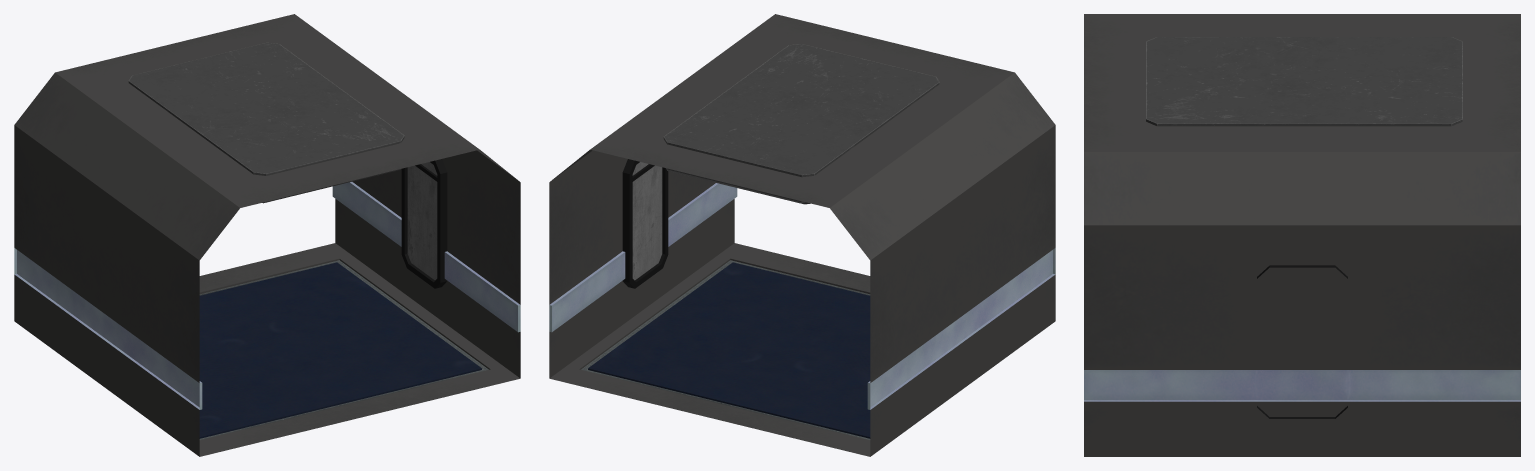
File: Elevator.fbx
The picture shows the model from 3 angles, left to right: view 1: azimuth 30°, elevation 25°; view 2: azimuth 150°, elevation 25°; view 3: azimuth 270°, elevation 25°; orthographic projection. The views are drawn at different scales.
Visible parts, largest first — view 1: Elevator, Elevator_Light; view 2: Elevator, Elevator_Light; view 3: Elevator, Elevator_Light.
Boxes of the visible parts, x1,y1,x2,y2 form: Elevator: (14,14,520,456); Elevator_Light: (128,42,404,203); Elevator: (549,14,1055,456); Elevator_Light: (663,44,939,204); Elevator: (1084,14,1520,456); Elevator_Light: (1146,37,1462,126).
Size of the model in its own units: 572 by 409 by 566.
Materials: 3 (2 with a texture image).
